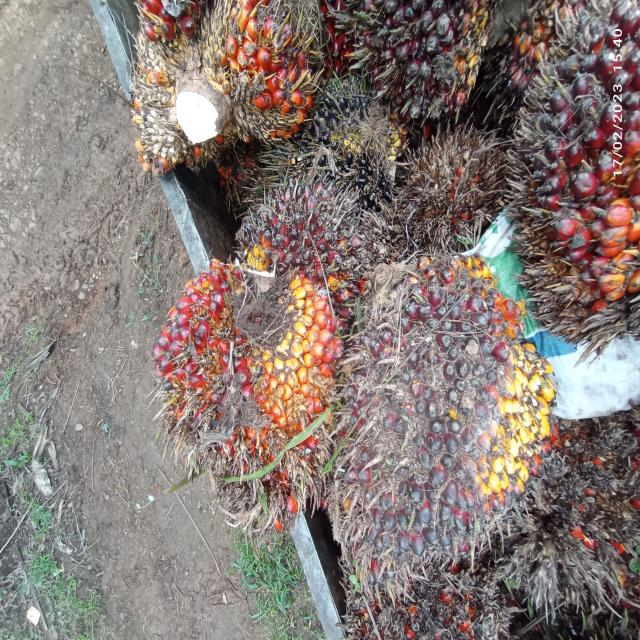fraksi 00: (293, 79, 397, 199)
fraksi 1: (321, 212, 563, 574)
fraksi 4: (136, 226, 354, 522)
